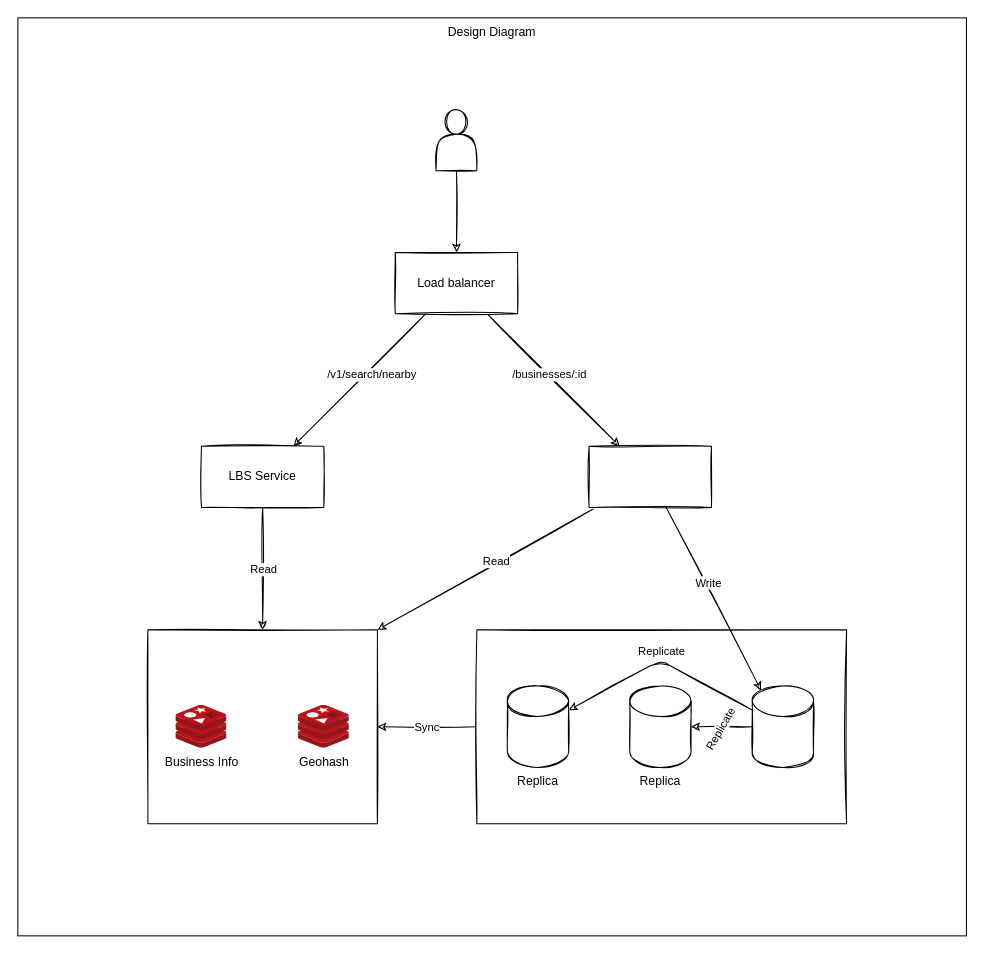
The diagram is 984 pixels wide and 954 high, and some of its shapes have lost their labels. Each missing label, with the box of its shape:
Business Service: (588, 445, 711, 507)
Database Cluster: (476, 629, 847, 824)
Primary: (751, 685, 813, 768)
Redis Cluster: (147, 629, 377, 824)
